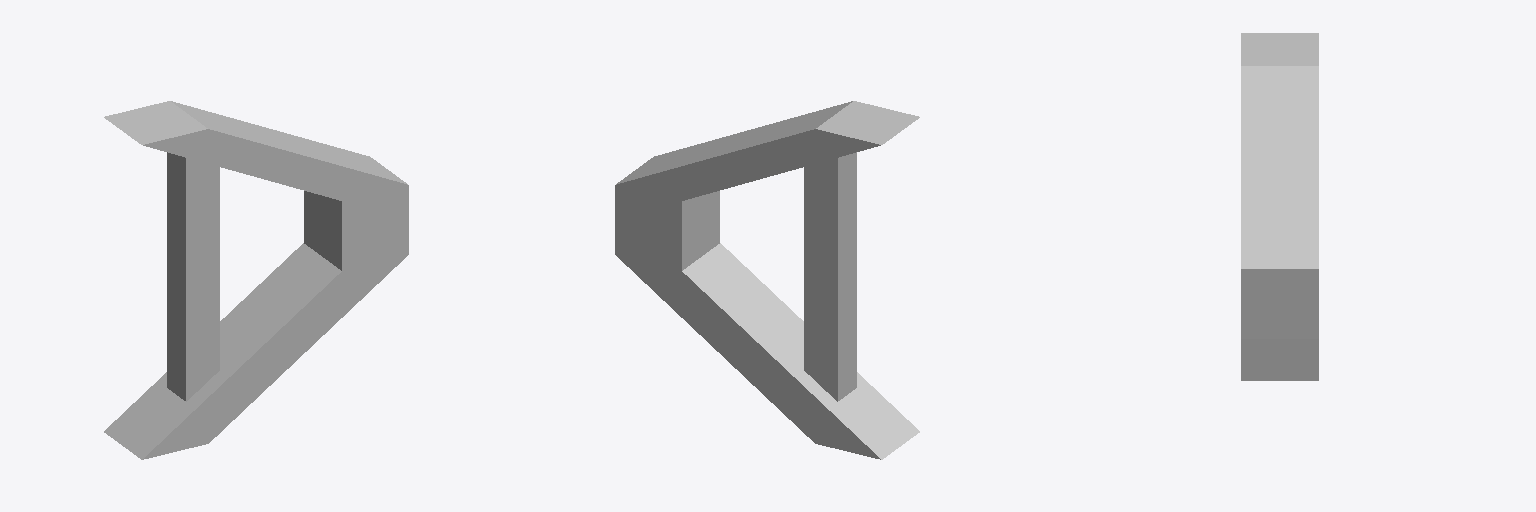
File: shipRotatedYUp.obj
The picture shows the model from 3 angles: view 1: azimuth 30°, elevation 25°; view 2: azimuth 150°, elevation 25°; view 3: azimuth 270°, elevation 25°; orthographic projection.
Parts seen in each view (by area): view 1: Cube_Cube.006; view 2: Cube_Cube.006; view 3: Cube_Cube.006.
Part boxes in pixels (x1,y1,x2,y2): Cube_Cube.006: (104,101,408,459); Cube_Cube.006: (615,101,919,459); Cube_Cube.006: (1241,33,1318,380).
Bounding box in the file's own units: 8 × 9.01 × 2.